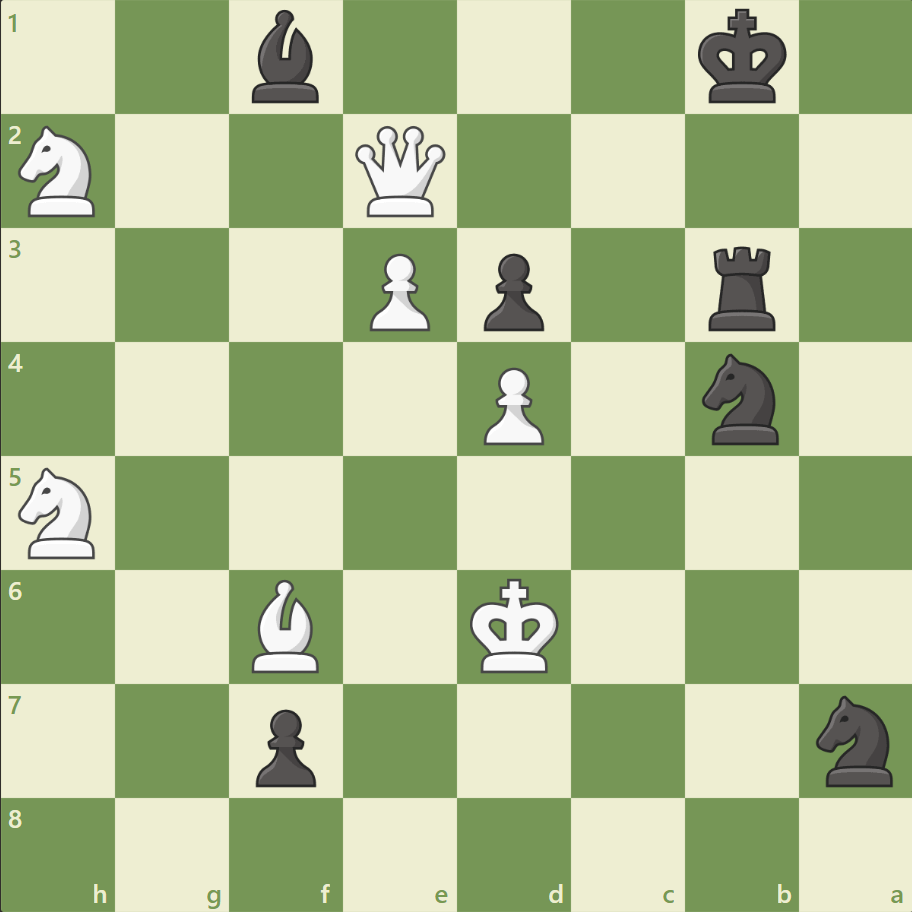B: (244, 574, 328, 676)
K: (465, 571, 565, 679)
N: (11, 461, 108, 564), (11, 121, 108, 223)
P: (474, 359, 549, 450), (361, 246, 435, 337)
Q: (351, 122, 450, 222)
b: (244, 6, 328, 109)
k: (692, 4, 792, 112)
n: (806, 688, 903, 791), (692, 348, 789, 450)
p: (247, 700, 322, 791), (474, 246, 549, 337)
r: (700, 239, 783, 336)
